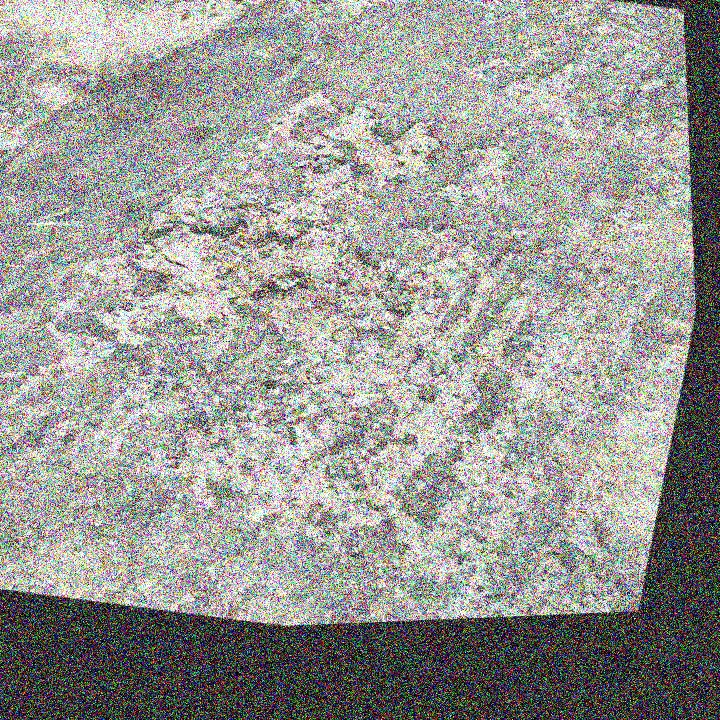pothole: (112, 181, 410, 364), (256, 80, 454, 221)
